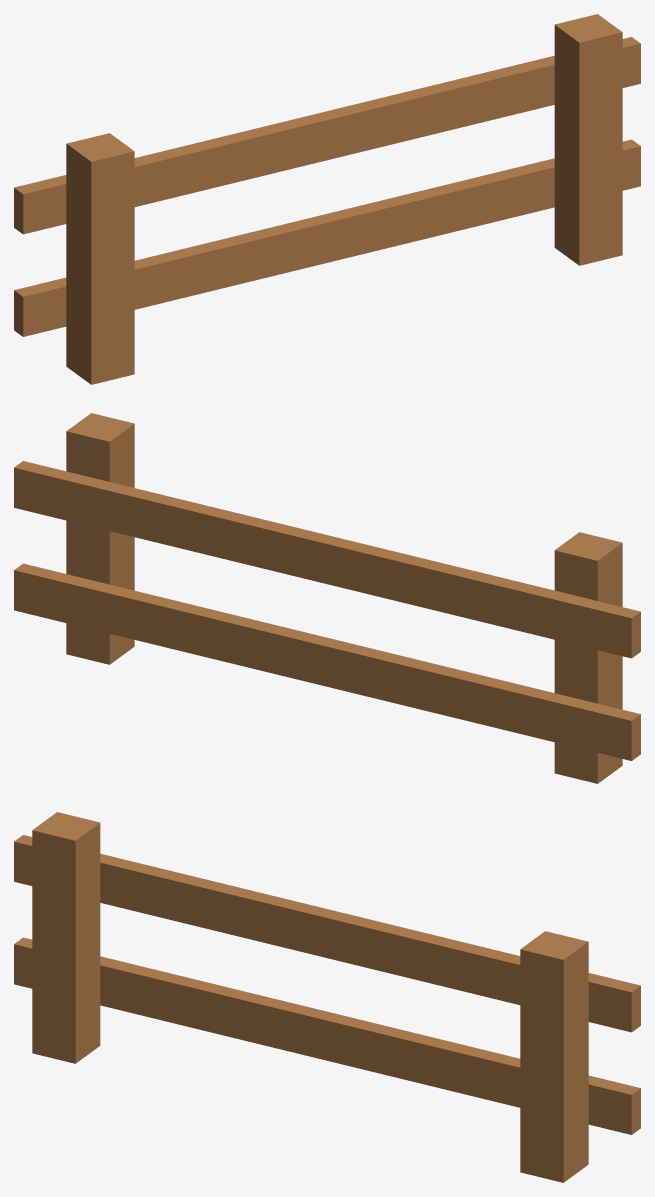
The model's file is fence_planks.glb.
3 views of the same model, one above another, from view 1: azimuth 30°, elevation 25°; view 2: azimuth 150°, elevation 25°; view 3: azimuth 330°, elevation 25° (orthographic).
Parts seen in each view (by area): view 1: fence_planks; view 2: fence_planks; view 3: fence_planks.
Boxes of the visible parts, x1=… form: fence_planks: x1=14, y1=14, x2=640, y2=384; fence_planks: x1=14, y1=413, x2=640, y2=783; fence_planks: x1=14, y1=812, x2=640, y2=1182.
Size of the model in its own units: 1.4 by 0.483 by 0.1343.
